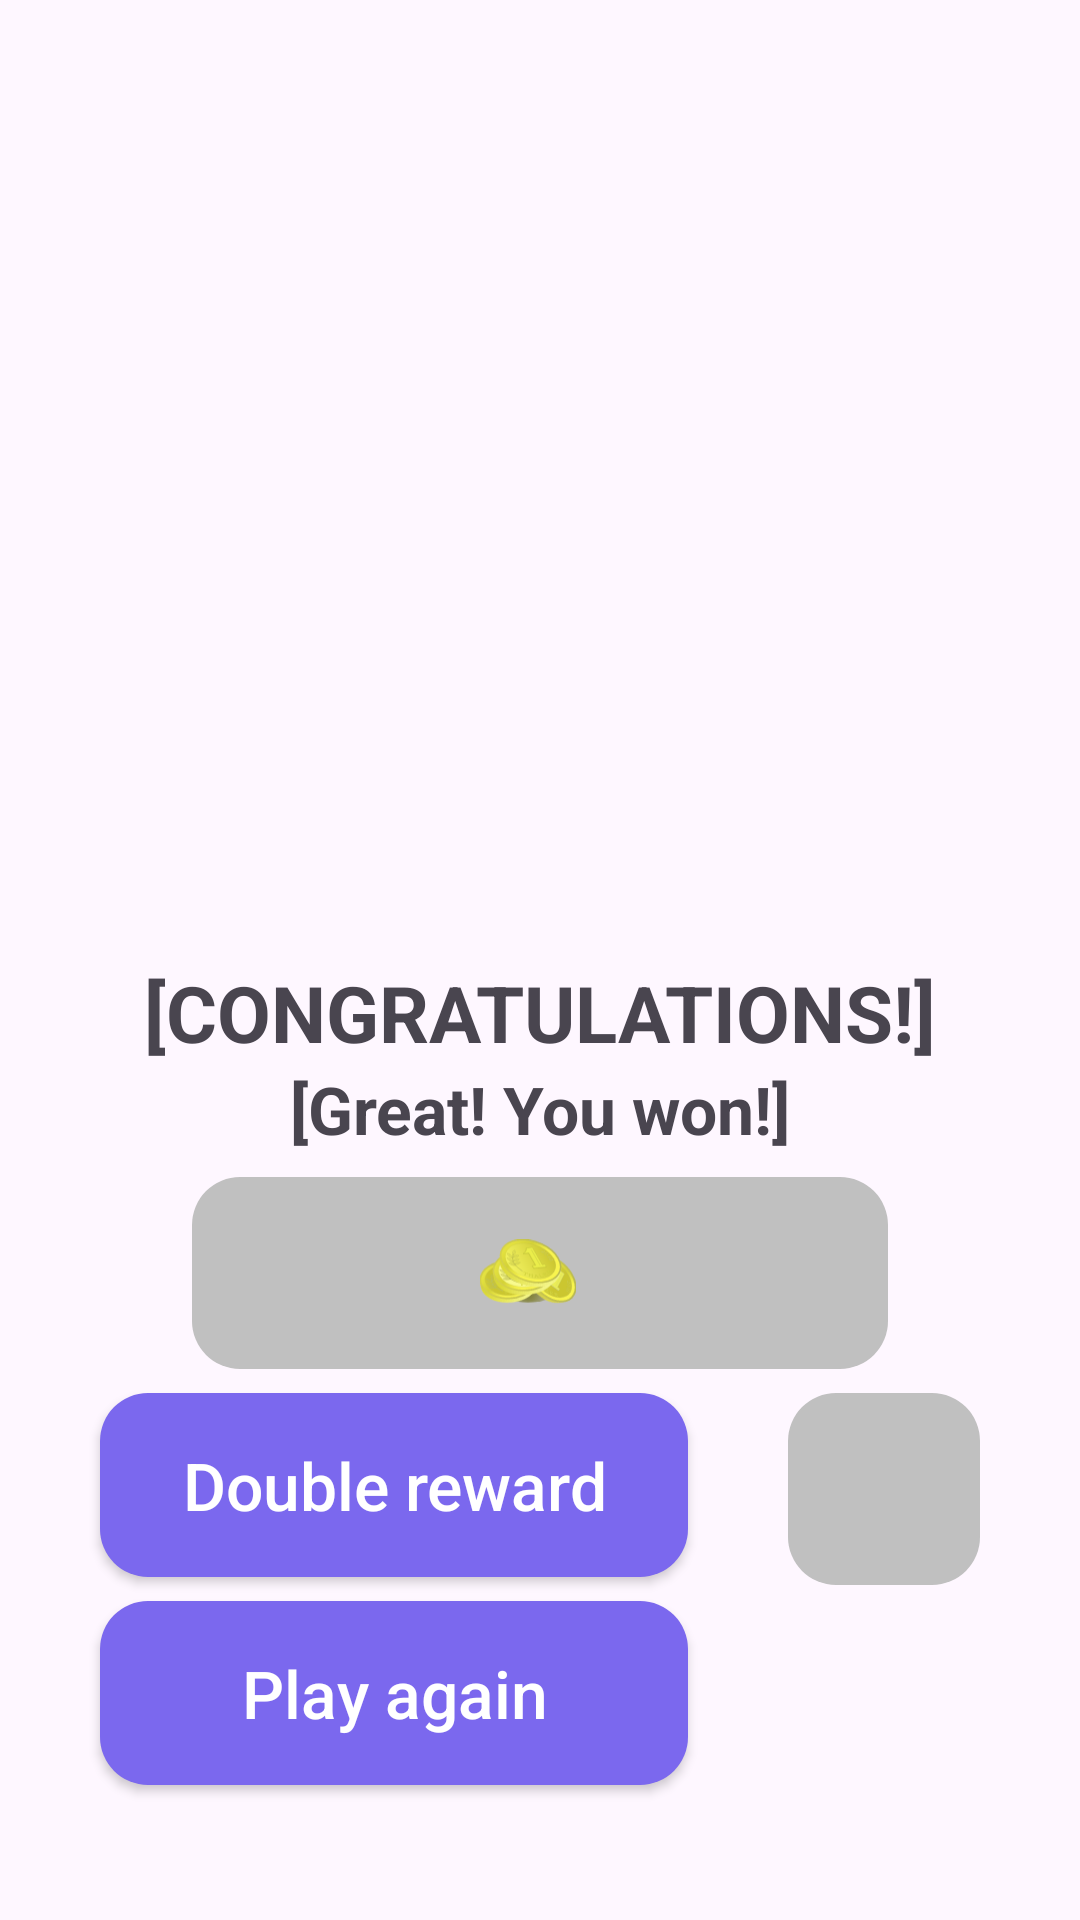

Icons on this 1080x1920 Android screen, each with its box as (x1=x1, y1=y1, x2=x2, y2=y2):
coin: (x1=480, y1=1239, x2=576, y2=1303)
